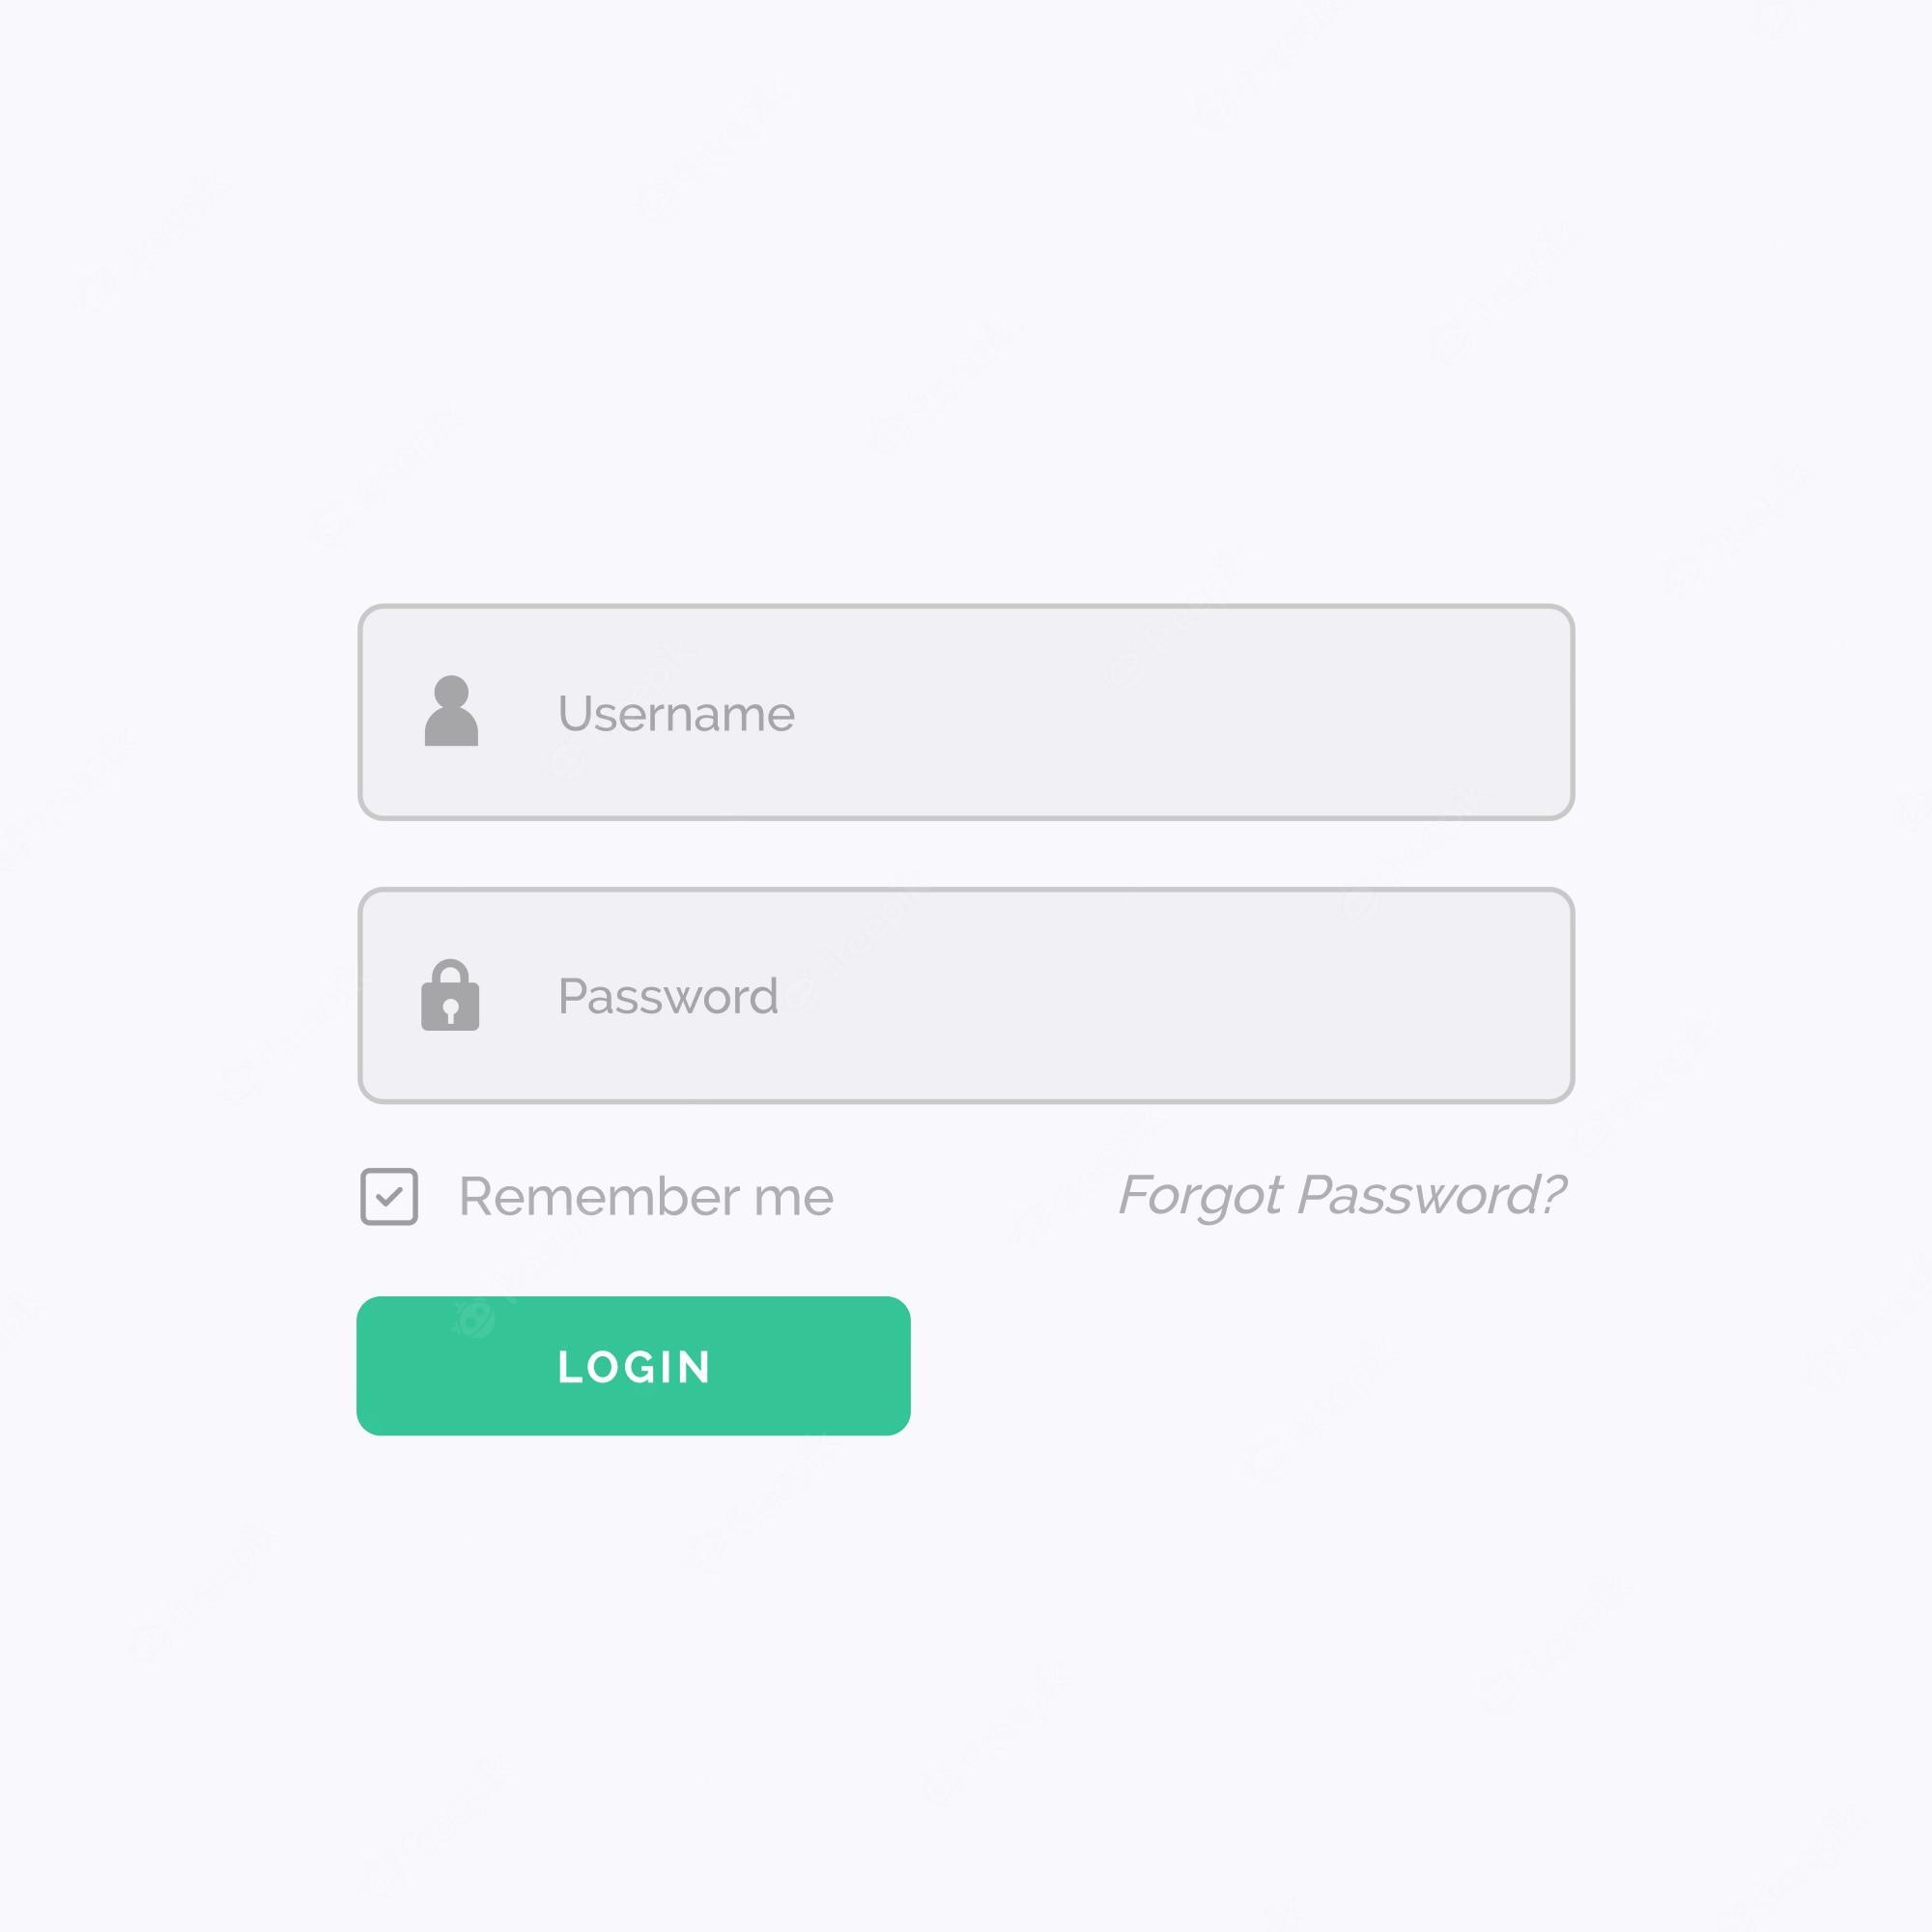button: (356, 1299, 915, 1435)
checkbox: (364, 1168, 418, 1226)
input: (359, 603, 1580, 821), (359, 888, 1575, 1104)
label: (456, 1175, 844, 1233)
